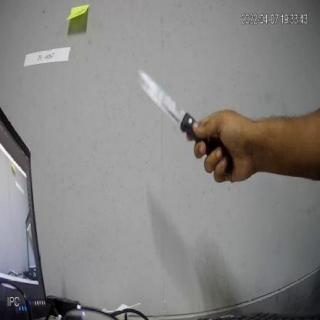knife: (132, 55, 234, 183)
